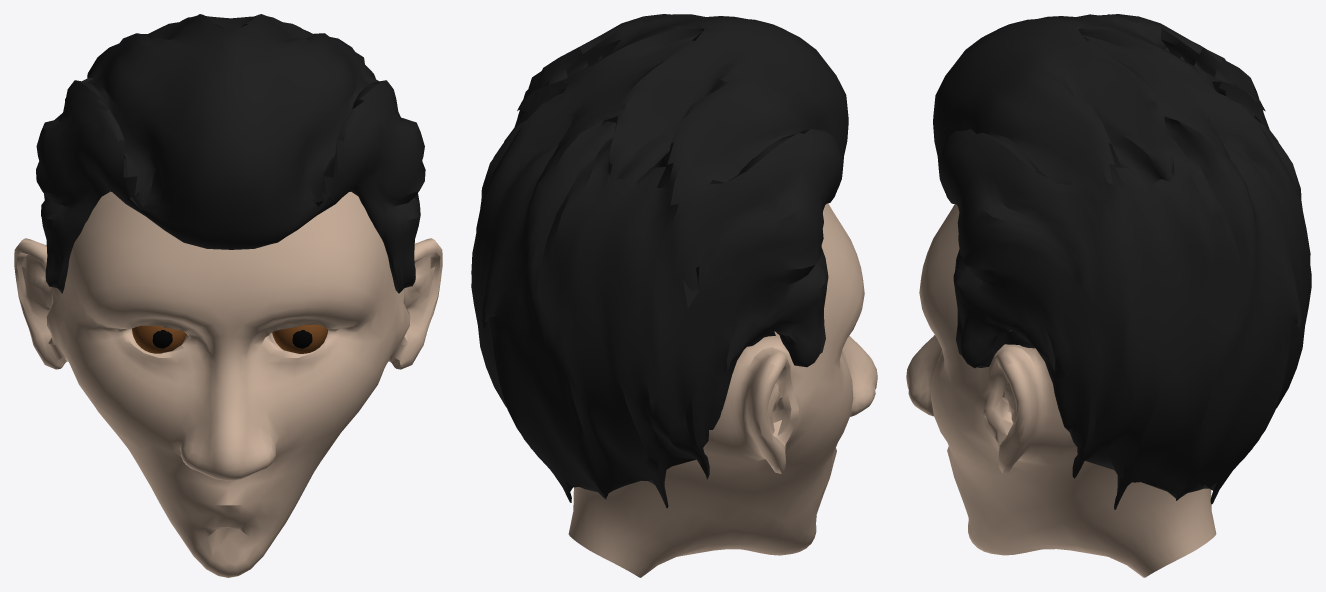
File: kafa.fbx
3 renders of one model, left to right at view 1: azimuth 30°, elevation 25°; view 2: azimuth 150°, elevation 25°; view 3: azimuth 270°, elevation 25°, orthographic. The views are drawn at different scales.
Parts seen in each view (by area): view 1: kafa; view 2: kafa; view 3: kafa.
Part boxes in pixels (x1,y1,x2,y2): kafa: [14, 14, 442, 577]; kafa: [471, 14, 877, 577]; kafa: [906, 14, 1311, 577].
Bounding box in the file's own units: 82.44 × 120 × 80.93.
